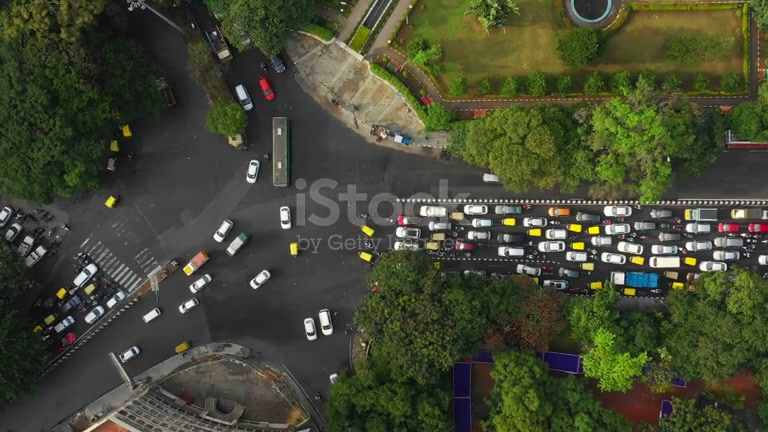car: (0, 206, 15, 227)
